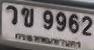letters: (21, 7, 34, 27), (6, 5, 18, 25), (43, 10, 54, 30), (55, 12, 66, 31), (68, 14, 79, 33), (82, 16, 92, 36)
province: (15, 33, 81, 48)
